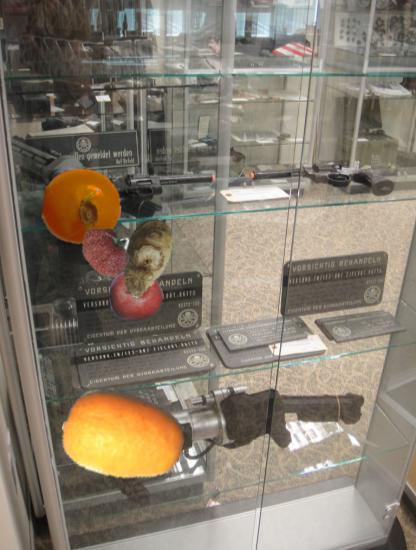Ginger: (106, 217, 188, 299)
Kumquats: (62, 376, 184, 498)
Physalis: (43, 167, 122, 246)
Pomegranate: (109, 268, 163, 322)
Strawberry: (78, 223, 134, 279)
